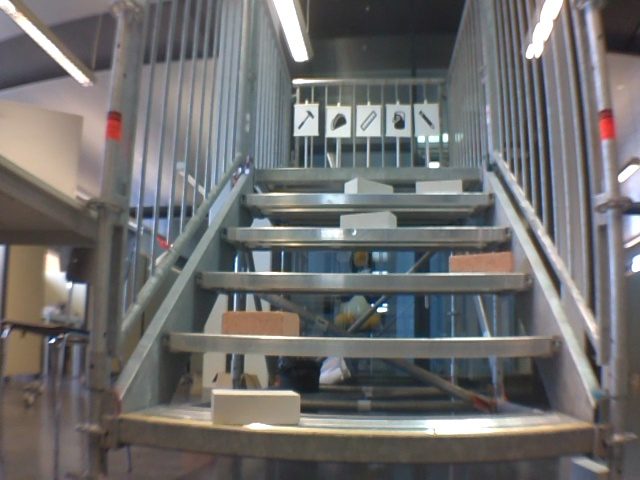brick: (212, 390, 299, 427), (223, 311, 299, 335), (450, 252, 511, 273), (340, 211, 395, 227), (343, 177, 391, 194), (417, 178, 461, 192)
bucket: (390, 108, 407, 131)
edge: (118, 418, 594, 460), (164, 332, 563, 356), (196, 272, 536, 289), (221, 227, 512, 240), (238, 192, 493, 205), (252, 166, 481, 177)
hammer: (296, 109, 314, 131)
pencil: (414, 107, 438, 132)
ruler: (358, 107, 378, 133)
stairs: (81, 2, 631, 479)
steps: (110, 161, 596, 468)
taco: (328, 110, 348, 134)
